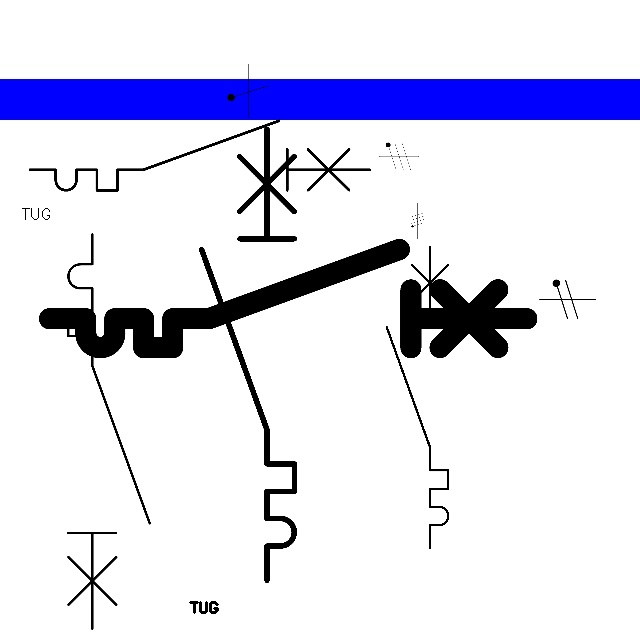interruptor_termomagnetico: (37, 237, 539, 360), (190, 117, 306, 592), (58, 224, 159, 639), (21, 112, 378, 199), (379, 238, 456, 555)
